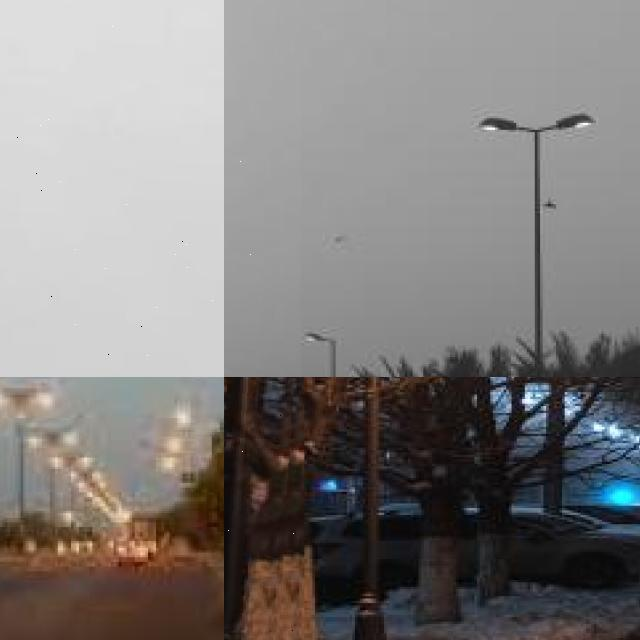street light: (0, 0, 224, 377), (476, 111, 595, 377), (224, 0, 301, 377), (224, 377, 304, 640), (341, 377, 412, 640), (0, 378, 53, 551), (304, 331, 341, 377)
